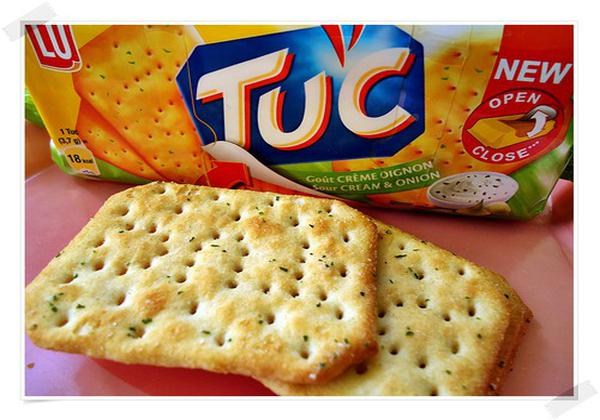crackers tuc: (29, 27, 569, 216)
